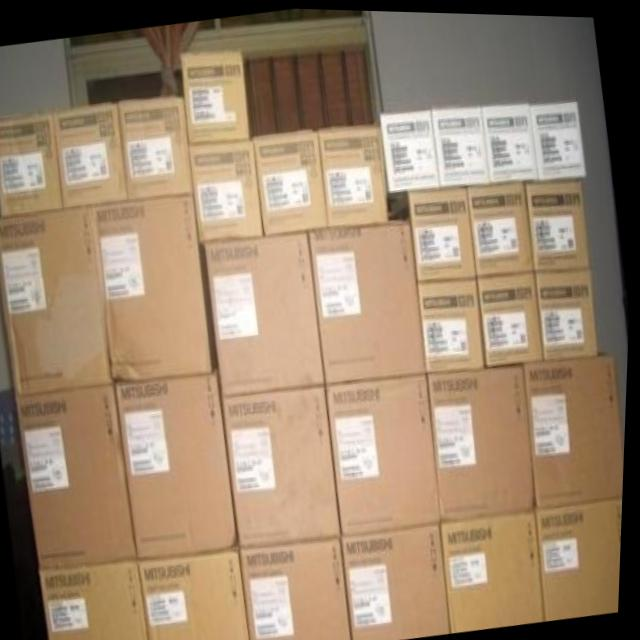box: (115, 364, 244, 557), (92, 191, 221, 382), (0, 202, 117, 398), (19, 381, 140, 567), (206, 226, 330, 396), (224, 384, 346, 548), (310, 218, 431, 383), (329, 371, 444, 530), (431, 359, 540, 519), (527, 352, 627, 506), (348, 521, 457, 640), (444, 508, 551, 628), (244, 530, 357, 640), (540, 493, 626, 615), (141, 551, 258, 640), (43, 559, 153, 640), (54, 100, 130, 205), (256, 127, 332, 231), (190, 138, 267, 240), (116, 96, 194, 196), (321, 121, 392, 225), (0, 111, 65, 216), (411, 182, 479, 281), (469, 179, 537, 275), (181, 49, 251, 142), (421, 275, 489, 370), (480, 267, 547, 363), (536, 264, 603, 356), (526, 175, 592, 267), (381, 107, 442, 191), (431, 103, 493, 184), (482, 97, 541, 179), (531, 98, 589, 177)
